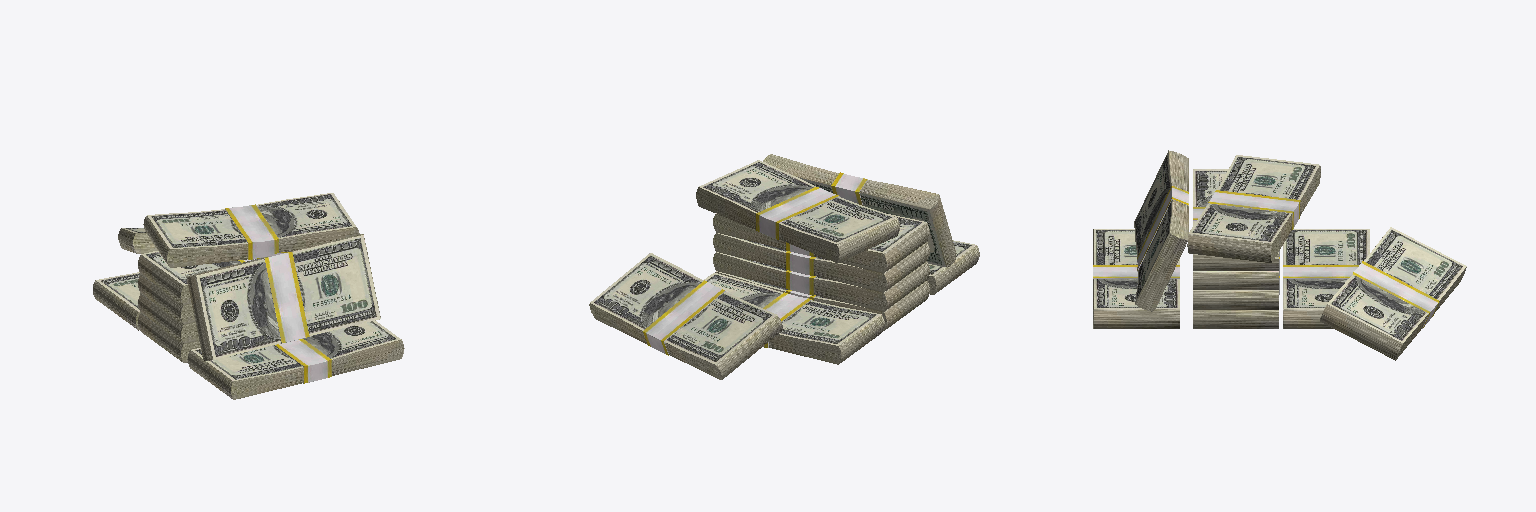
The picture shows the model from 3 angles: view 1: azimuth 30°, elevation 25°; view 2: azimuth 150°, elevation 25°; view 3: azimuth 270°, elevation 25°; orthographic projection.
Visible parts, largest first — view 1: Box01, Box01_21, Objeto_Clonar_1_Box01_11, Objeto_Clonar_Box01_3, Objeto_Clonar_1_Box01_01, Objeto_Clonar_Box01_1, Objeto_Clonar_Box01_2, Objeto_Clonar_Box01_0, Box01_12; view 2: Box01_12, Box01_21, Objeto_Clonar_1_Box01_01, Box01, Objeto_Clonar_Box01_1, Objeto_Clonar_Box01_2, Objeto_Clonar_Box01_3, Objeto_Clonar_Box01_0, Objeto_Clonar_1_Box01_11; view 3: Box01_12, Box01_21, Objeto_Clonar_1_Box01_01, Box01, Objeto_Clonar_1_Box01_11, Objeto_Clonar_Box01_3, Objeto_Clonar_Box01_1, Objeto_Clonar_Box01_0, Objeto_Clonar_Box01_2.
Part boxes in pixels (left/top/right/bottom): Box01: left=186, top=234, right=380, bottom=360; Box01_21: left=143, top=193, right=359, bottom=267; Objeto_Clonar_1_Box01_11: left=187, top=321, right=404, bottom=399; Objeto_Clonar_Box01_3: left=138, top=251, right=254, bottom=304; Objeto_Clonar_1_Box01_01: left=93, top=272, right=140, bottom=330; Objeto_Clonar_Box01_1: left=138, top=293, right=198, bottom=343; Objeto_Clonar_Box01_2: left=138, top=274, right=194, bottom=324; Objeto_Clonar_Box01_0: left=138, top=313, right=200, bottom=362; Box01_12: left=118, top=228, right=157, bottom=253; Box01_12: left=589, top=253, right=782, bottom=379; Box01_21: left=696, top=160, right=899, bottom=262; Objeto_Clonar_1_Box01_01: left=704, top=273, right=884, bottom=364; Box01: left=763, top=154, right=956, bottom=267; Objeto_Clonar_Box01_1: left=713, top=252, right=929, bottom=311; Objeto_Clonar_Box01_2: left=713, top=233, right=929, bottom=292; Objeto_Clonar_Box01_3: left=713, top=213, right=929, bottom=272; Objeto_Clonar_Box01_0: left=715, top=271, right=929, bottom=330; Objeto_Clonar_1_Box01_11: left=927, top=240, right=979, bottom=294; Box01_12: left=1320, top=227, right=1466, bottom=360; Box01_21: left=1187, top=155, right=1320, bottom=262; Objeto_Clonar_1_Box01_01: left=1283, top=229, right=1369, bottom=328; Box01: left=1134, top=150, right=1188, bottom=311; Objeto_Clonar_1_Box01_11: left=1093, top=229, right=1179, bottom=328; Objeto_Clonar_Box01_3: left=1193, top=169, right=1278, bottom=270; Objeto_Clonar_Box01_1: left=1193, top=257, right=1279, bottom=309; Objeto_Clonar_Box01_0: left=1193, top=276, right=1279, bottom=328; Objeto_Clonar_Box01_2: left=1193, top=251, right=1279, bottom=289.
Size of the model in its own units: 10.81 by 4.29 by 14.77.
Materials: 1 (1 with a texture image).